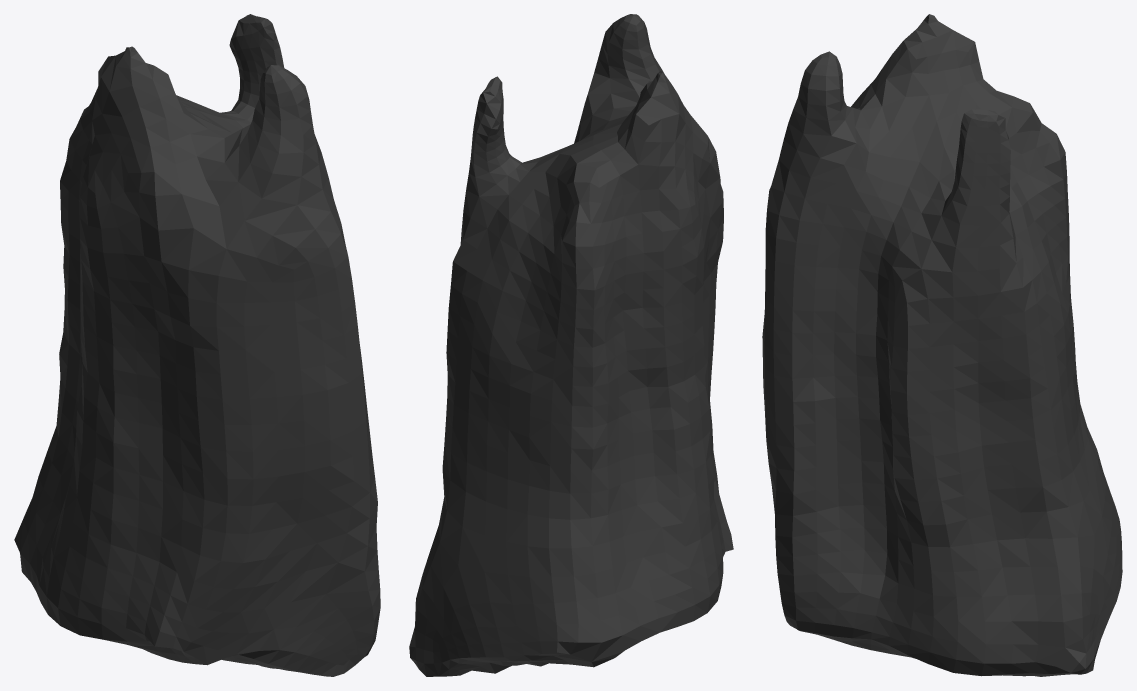
File: R_max_PM3_copy000.glb
The picture shows the model from 3 angles, left to right: view 1: azimuth 30°, elevation 25°; view 2: azimuth 150°, elevation 25°; view 3: azimuth 270°, elevation 25°; orthographic projection. The views are drawn at different scales.
Parts seen in each view (by area): view 1: R_max_PM3_copy000; view 2: R_max_PM3_copy000; view 3: R_max_PM3_copy000.
Boxes of the visible parts, x1,y1,x2,y2 form: R_max_PM3_copy000: (14, 14, 380, 676); R_max_PM3_copy000: (409, 14, 733, 676); R_max_PM3_copy000: (762, 14, 1122, 676).
Bounding box in the file's own units: 0.4712 × 1.06 × 0.5834.
Materials: 1 (1 with a texture image).
